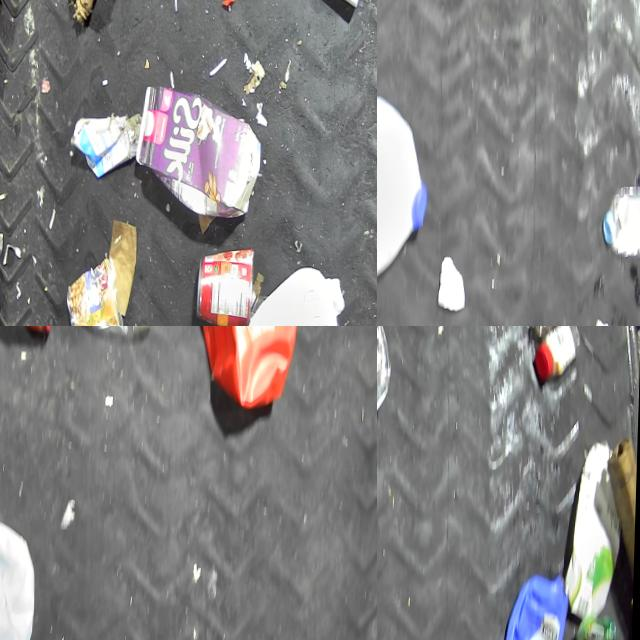can: (197, 246, 257, 326), (67, 256, 129, 326)
milk_jug: (377, 94, 432, 282), (241, 265, 348, 326), (0, 516, 39, 640)
non_white_jug: (136, 83, 263, 224), (193, 326, 301, 412), (496, 570, 572, 640)
plastic_bottle: (601, 189, 640, 261)
